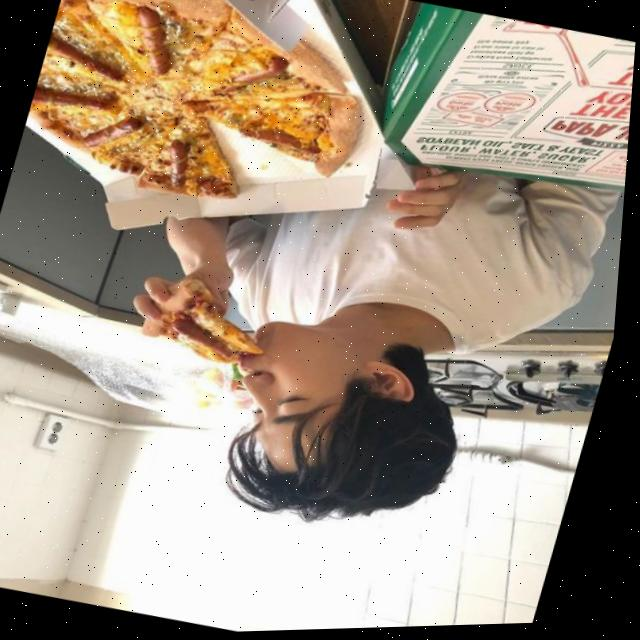eating-person: (56, 71, 635, 593)
